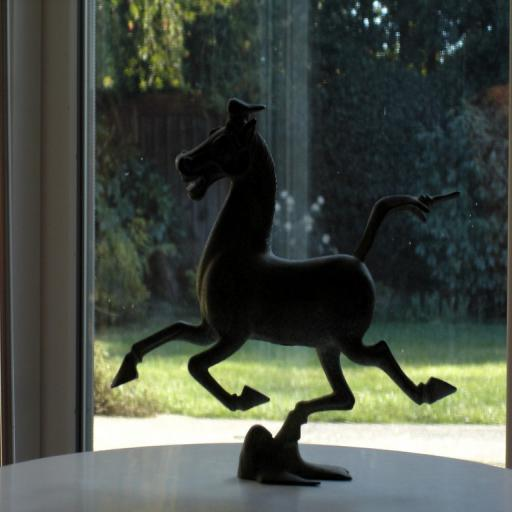horse: (110, 94, 462, 444)
